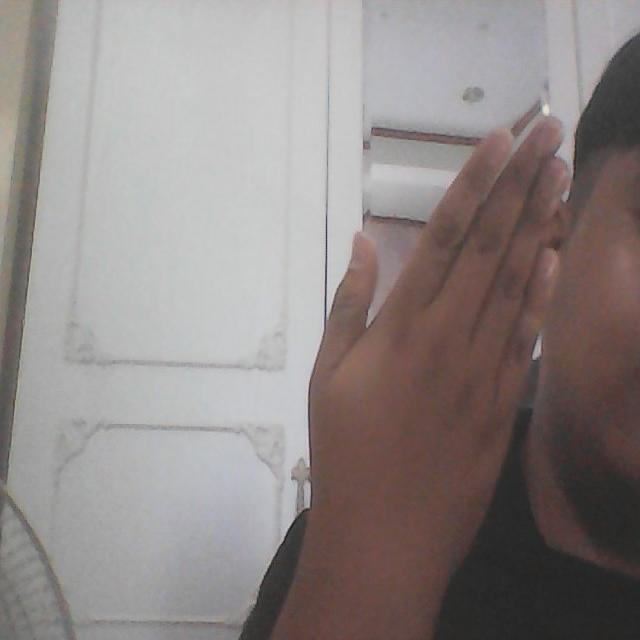hand: (298, 106, 572, 640)
